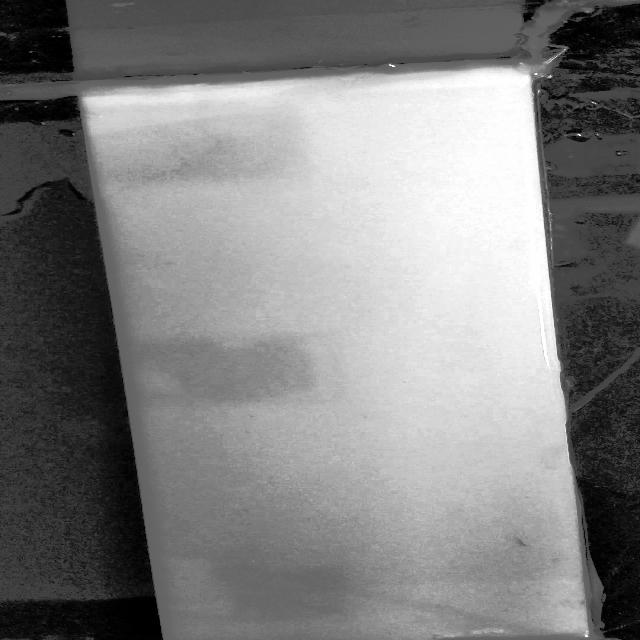shrimp: (504, 533, 538, 554)
